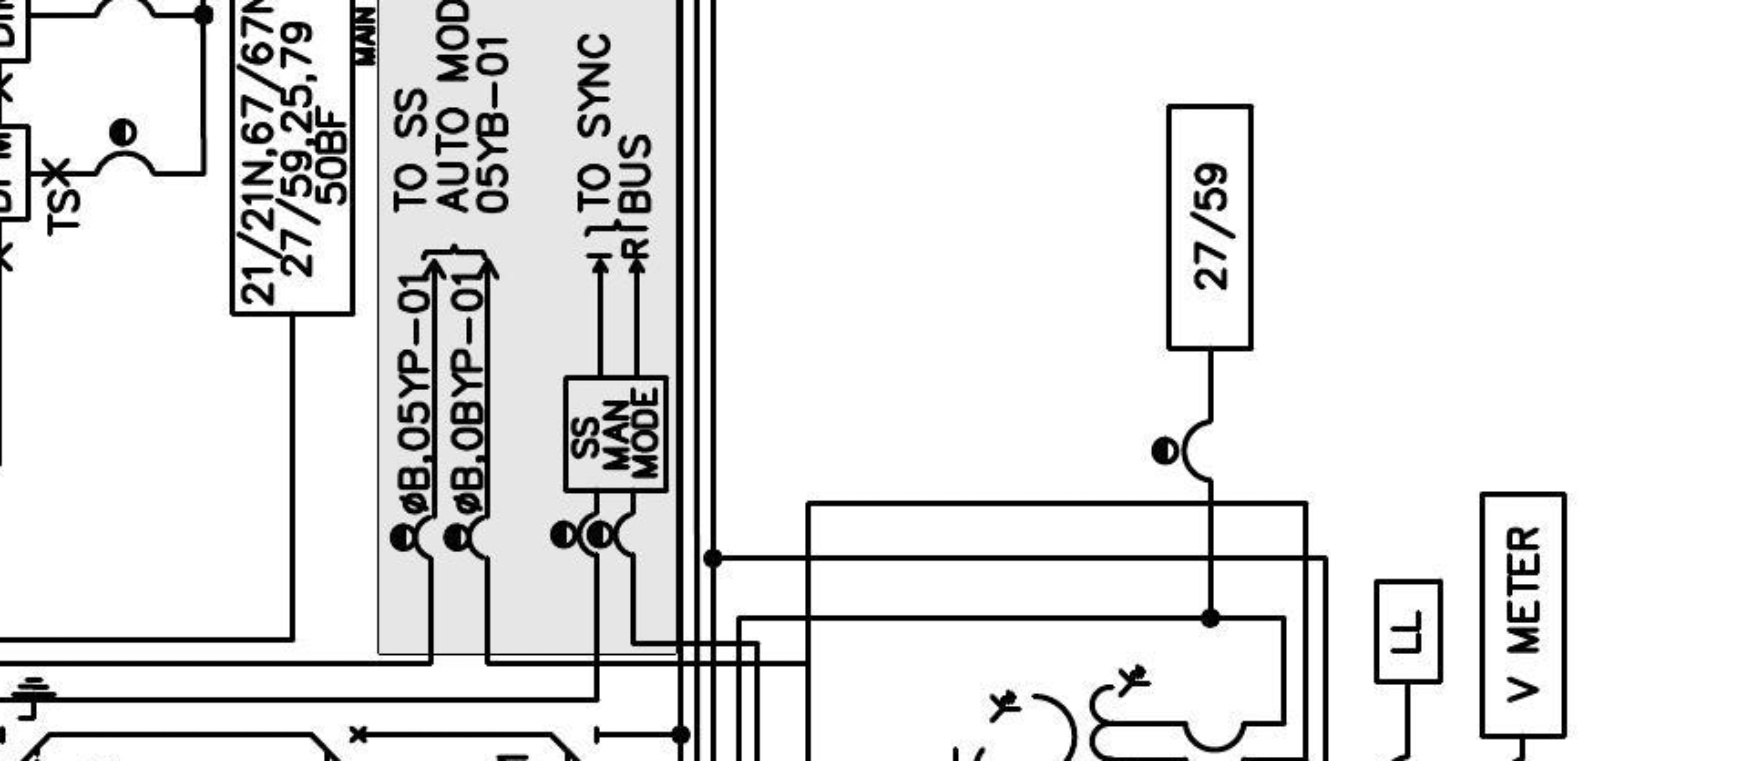LL: (1372, 577, 1446, 686)
ss_man_mode: (563, 375, 670, 494)
v_m_digital: (1478, 490, 1569, 741)
